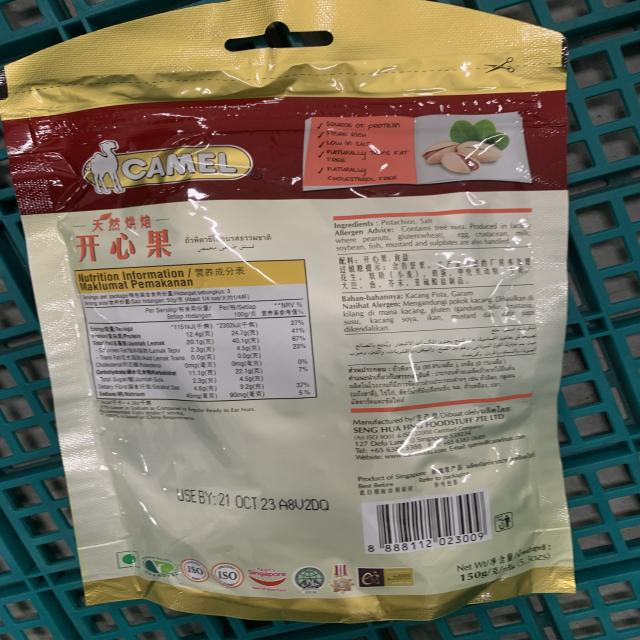object_name: (13, 8, 579, 605)
